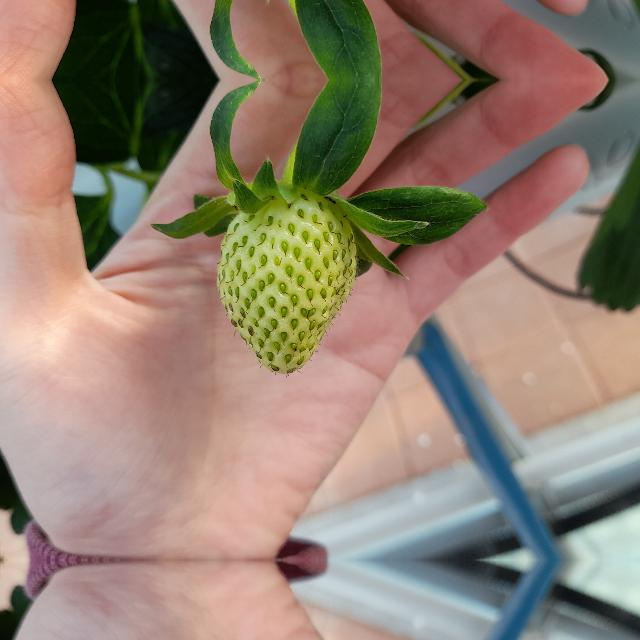Health_25: (216, 187, 356, 376)
